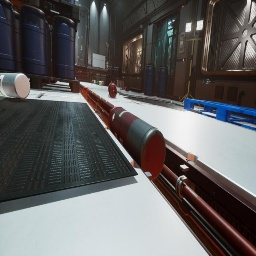0: (0, 73, 30, 99), (96, 81, 104, 85), (91, 80, 96, 84)
EmergencyPhone ,: (80, 44, 82, 50)
FireExtinguisher ]: (124, 86, 129, 91), (58, 81, 69, 83)
FirstAidBox ,: (42, 73, 56, 83), (56, 81, 57, 82)
NitrogenTank ,: (108, 107, 166, 180), (108, 83, 117, 98), (82, 64, 85, 66), (75, 77, 76, 79)
SafetySwitchPanel ,: (179, 31, 187, 54), (116, 77, 116, 77)
